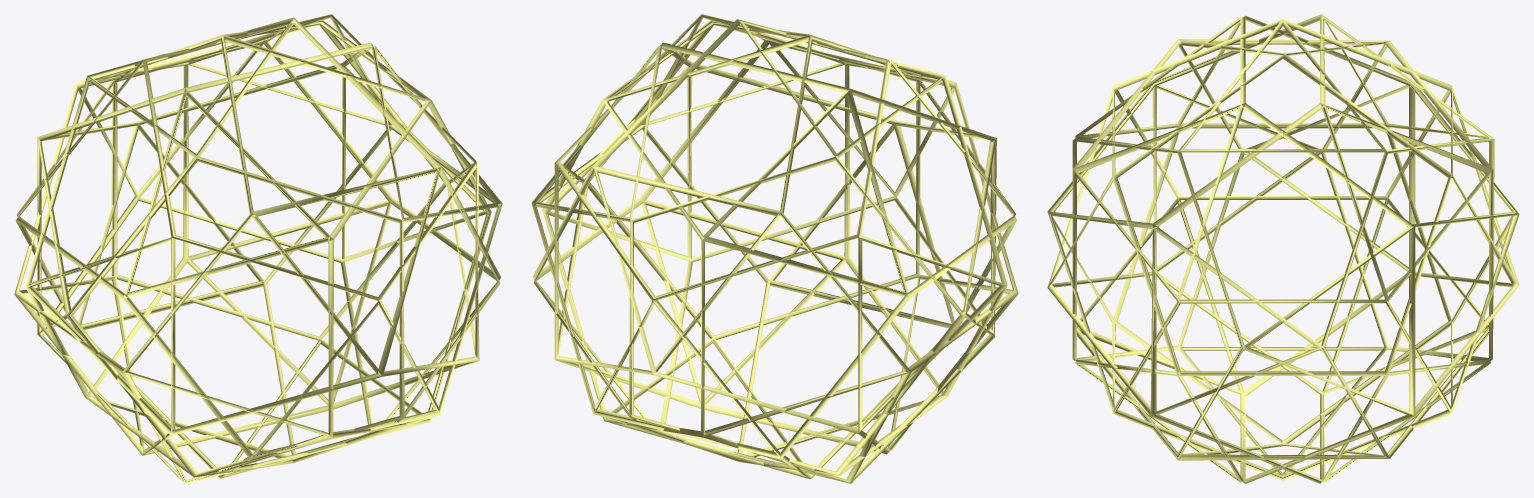
File: GreatIcosicosidodecahedron2.glb
3 views of the same model, side by side, from view 1: azimuth 30°, elevation 25°; view 2: azimuth 150°, elevation 25°; view 3: azimuth 270°, elevation 25° (orthographic). The views are drawn at different scales.
Parts seen in each view (by area): view 1: GreatIcosicosidodecahedron; view 2: GreatIcosicosidodecahedron; view 3: GreatIcosicosidodecahedron.
Boxes of the visible parts, left/top/right/bottom form: GreatIcosicosidodecahedron: left=14, top=14, right=502, bottom=483; GreatIcosicosidodecahedron: left=531, top=14, right=1018, bottom=483; GreatIcosicosidodecahedron: left=1047, top=14, right=1519, bottom=483.
Bounding box in the file's own units: 2.27 × 2.27 × 2.26.
